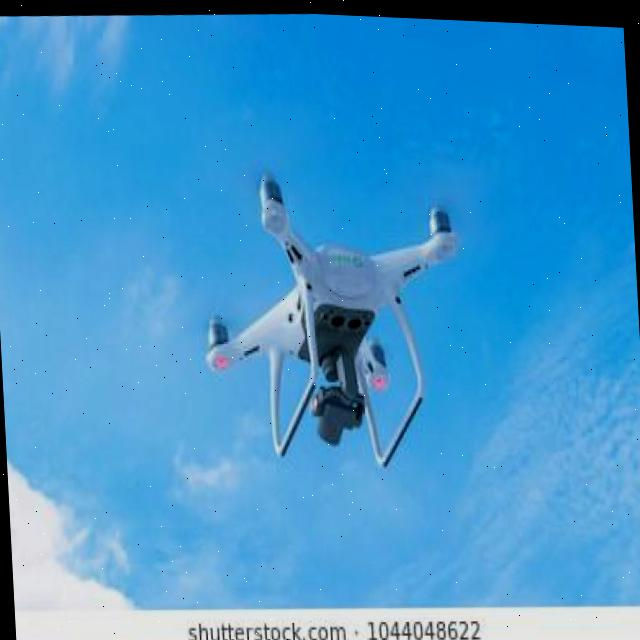drone: (147, 116, 507, 497)
